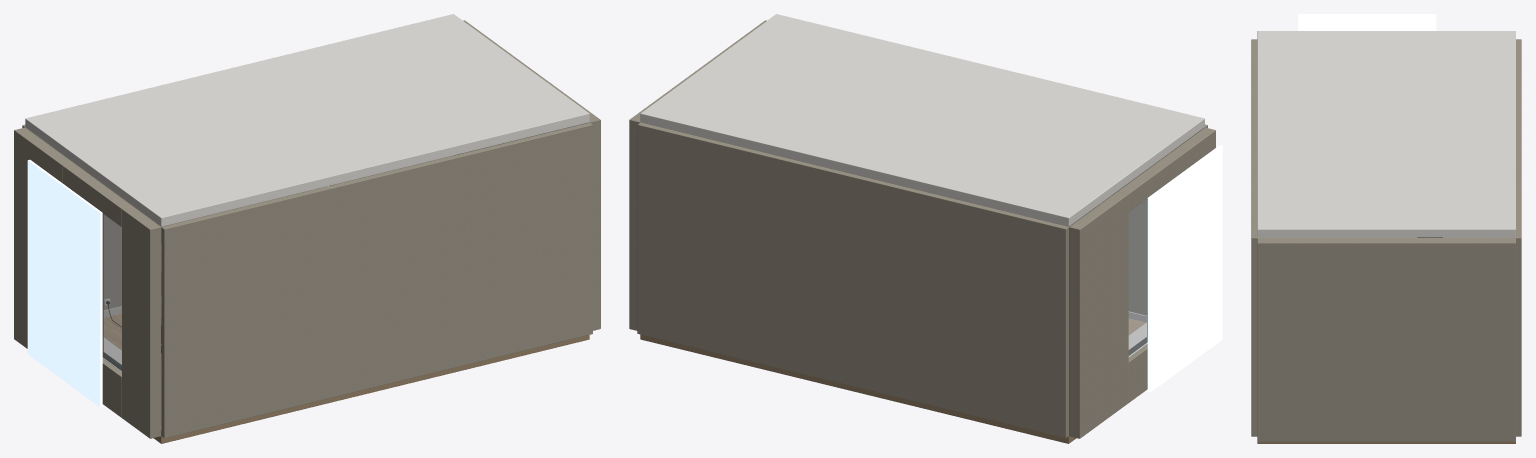
Rendered from listening-room-modular.glb.
3 views of the same model, side by side, from view 1: azimuth 30°, elevation 25°; view 2: azimuth 150°, elevation 25°; view 3: azimuth 270°, elevation 25° (orthographic). The views are drawn at different scales.
Visible parts, largest first — view 1: Cutaway_listener__Limewash | mineral microtexture, Cutaway_ceiling__Ceiling | chalk white, Architecture__Limewash | mineral microtexture, Architecture__Window | soft garden daylight, Architecture__Window | clear glass, Architecture__Oak plank 02, Cutaway_right__Limewash | mineral microtexture, RearWall__Limewash | mineral microtexture, Architecture__Oak - natural oil and open grain; view 2: RearWall__Limewash | mineral microtexture, Cutaway_ceiling__Ceiling | chalk white, Architecture__Limewash | mineral microtexture, Architecture__Window | soft garden daylight, Architecture__Window | clear glass, Architecture__Oak plank 02, Cutaway_right__Limewash | mineral microtexture, Cutaway_listener__Limewash | mineral microtexture; view 3: Cutaway_ceiling__Ceiling | chalk white, Cutaway_right__Limewash | mineral microtexture, Cutaway_listener__Limewash | mineral microtexture, RearWall__Limewash | mineral microtexture, Architecture__Window | soft garden daylight, Architecture__Oak plank 02.
Part boxes in pixels (x1,y1,x2,y2): Cutaway_listener__Limewash | mineral microtexture: (161,122,592,438); Cutaway_ceiling__Ceiling | chalk white: (25,14,589,226); Architecture__Limewash | mineral microtexture: (14,127,160,438); Architecture__Window | soft garden daylight: (27,159,102,407); Architecture__Window | clear glass: (103,214,121,371); Architecture__Oak plank 02: (153,335,589,443); Cutaway_right__Limewash | mineral microtexture: (454,20,600,330); RearWall__Limewash | mineral microtexture: (22,124,451,310); Architecture__Oak - natural oil and open grain: (103,304,161,436); RearWall__Limewash | mineral microtexture: (637,122,1068,438); Cutaway_ceiling__Ceiling | chalk white: (640,14,1204,226); Architecture__Limewash | mineral microtexture: (1069,127,1215,438); Architecture__Window | soft garden daylight: (1147,144,1222,392); Architecture__Window | clear glass: (1129,199,1147,356); Architecture__Oak plank 02: (640,334,1076,443); Cutaway_right__Limewash | mineral microtexture: (629,20,766,330); Cutaway_listener__Limewash | mineral microtexture: (1069,124,1207,315); Cutaway_ceiling__Ceiling | chalk white: (1257,31,1515,237); Cutaway_right__Limewash | mineral microtexture: (1257,238,1515,441); Cutaway_listener__Limewash | mineral microtexture: (1251,39,1257,436); RearWall__Limewash | mineral microtexture: (1516,39,1521,436); Architecture__Window | soft garden daylight: (1298,14,1436,30); Architecture__Oak plank 02: (1257,441,1515,443).
Size of the model in its own units: 6.71 by 3.03 by 3.45.
44 materials, 11 textured.
